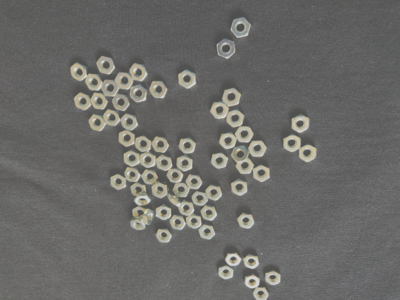nut: (217, 38, 236, 60), (231, 18, 251, 38), (97, 56, 116, 76), (129, 63, 148, 82), (130, 84, 149, 103), (112, 93, 131, 112), (226, 109, 245, 128), (179, 69, 197, 89), (149, 81, 169, 99), (210, 101, 230, 119), (70, 63, 88, 82), (115, 72, 134, 90), (223, 88, 241, 107), (292, 114, 310, 133), (284, 134, 302, 153), (299, 144, 317, 163), (231, 145, 250, 163), (90, 93, 110, 110), (85, 73, 103, 91), (121, 113, 139, 131), (219, 132, 237, 150), (179, 137, 197, 155), (104, 108, 121, 127), (235, 126, 254, 143), (236, 158, 255, 175), (151, 136, 170, 153), (102, 80, 120, 97), (74, 93, 91, 111), (89, 114, 106, 132), (211, 153, 229, 170), (253, 165, 270, 183), (231, 179, 248, 197), (135, 135, 152, 153), (156, 154, 173, 172), (152, 181, 169, 199), (248, 141, 267, 157), (237, 213, 256, 229), (177, 155, 194, 172), (124, 149, 140, 167), (140, 151, 156, 169), (205, 185, 223, 201), (119, 130, 135, 147), (170, 215, 187, 231), (243, 254, 260, 270), (265, 270, 282, 286), (179, 200, 195, 216), (199, 224, 215, 240), (124, 168, 141, 183), (142, 170, 159, 185), (186, 175, 203, 190), (173, 183, 190, 198), (201, 206, 218, 221), (186, 214, 203, 229), (166, 169, 184, 183), (111, 174, 126, 190), (131, 182, 147, 197), (168, 191, 183, 207), (192, 191, 208, 206), (156, 205, 172, 220), (225, 253, 242, 267), (134, 193, 152, 206), (245, 274, 260, 289), (131, 217, 147, 231), (156, 229, 172, 243), (219, 266, 234, 280), (253, 287, 269, 300), (143, 209, 154, 226), (133, 206, 146, 218)
